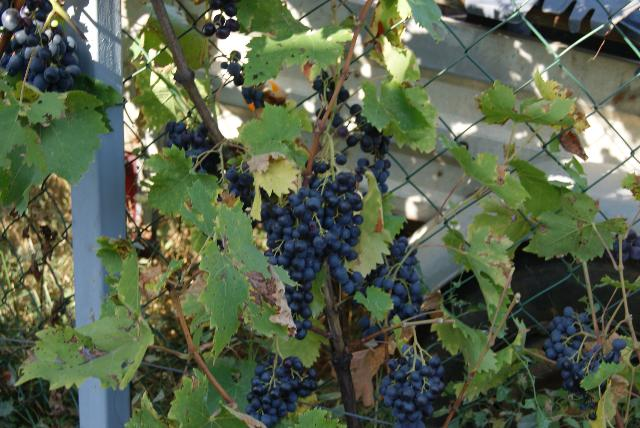grapes: (260, 161, 364, 339), (544, 306, 626, 410), (379, 345, 445, 428), (359, 236, 424, 320), (245, 354, 318, 428)
